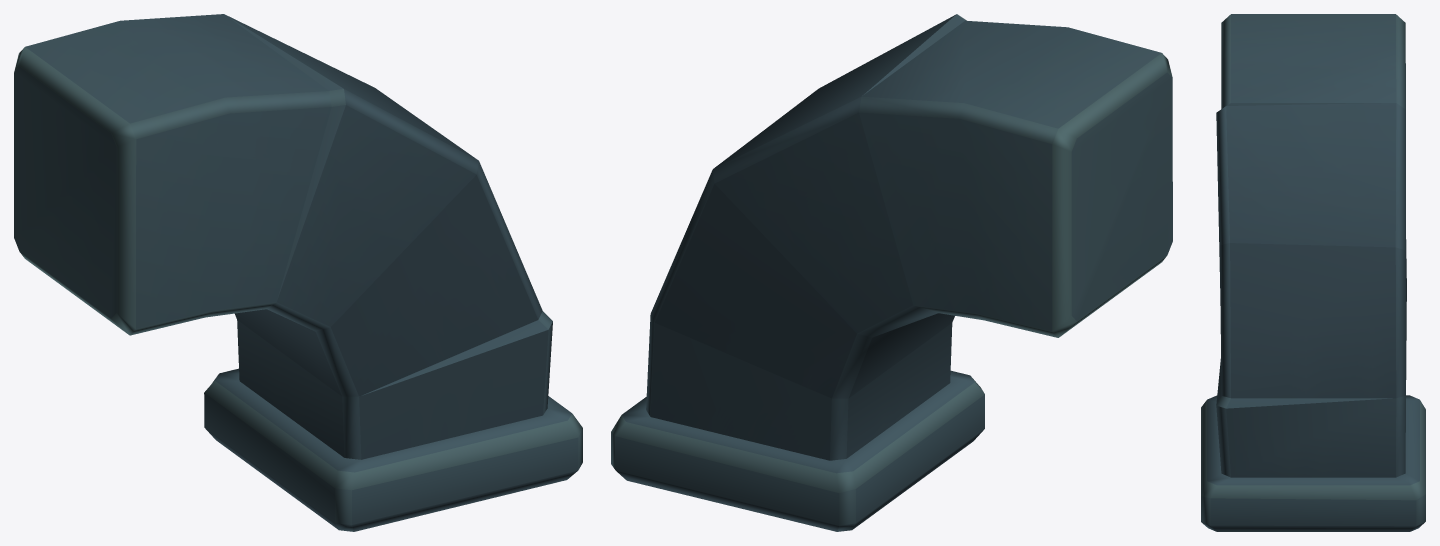
File: pillar_medium_arch1.fbx
3 views of the same model, side by side, from view 1: azimuth 30°, elevation 25°; view 2: azimuth 150°, elevation 25°; view 3: azimuth 270°, elevation 25° (orthographic). The views are drawn at different scales.
Parts seen in each view (by area): view 1: pillar_medium_arch1; view 2: pillar_medium_arch1; view 3: pillar_medium_arch1.
Boxes of the visible parts, bbox=[...] form: pillar_medium_arch1: bbox=[14, 14, 582, 531]; pillar_medium_arch1: bbox=[611, 14, 1172, 531]; pillar_medium_arch1: bbox=[1201, 14, 1425, 531].
Size of the model in its own units: 211 by 201 by 116.
